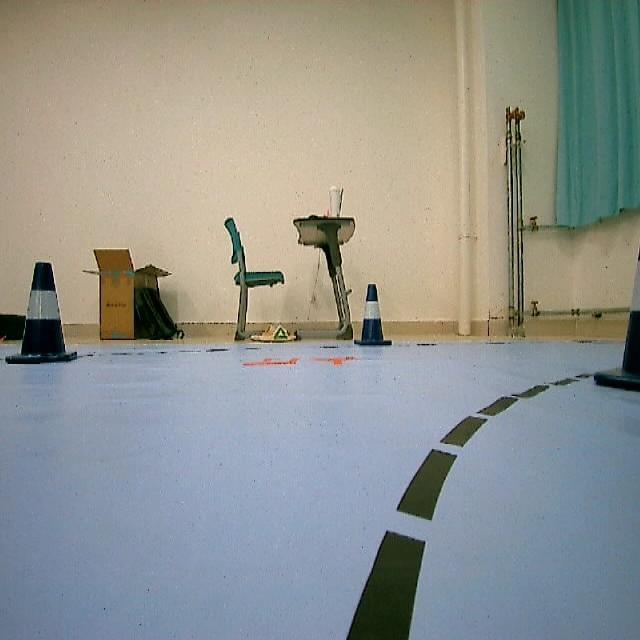obstacle: (9, 259, 84, 373), (358, 284, 391, 348)
